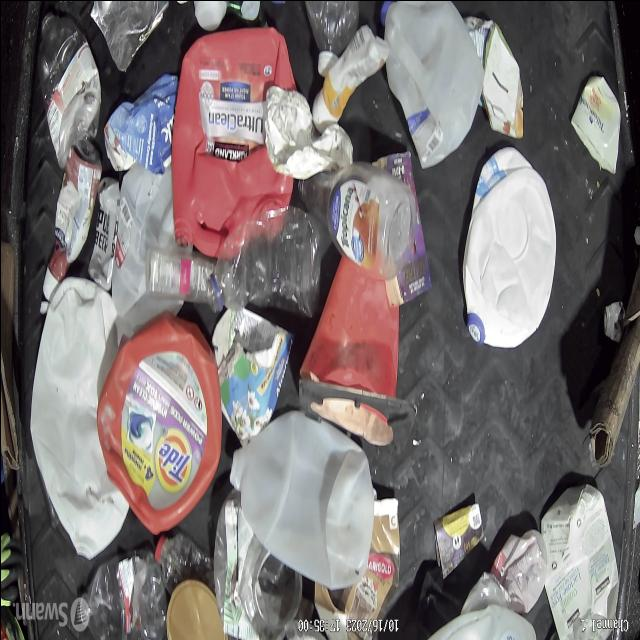milk_jug: (29, 276, 127, 562), (232, 415, 366, 585), (376, 0, 487, 166), (464, 152, 556, 348), (141, 247, 209, 309)
non_white_jug: (176, 32, 298, 252), (104, 324, 215, 530)
plastic_bottle: (207, 218, 317, 322)
